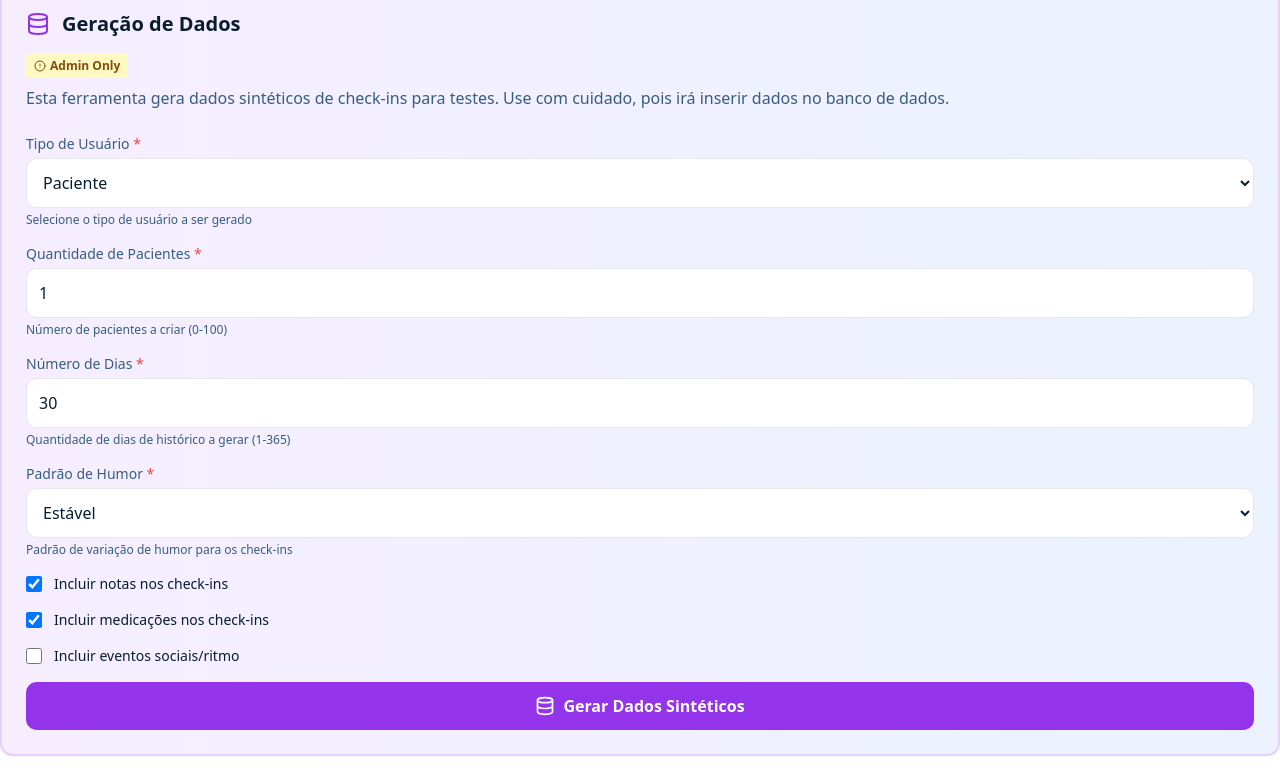
Test: DataGenerator › should handle non-JSON response error gracefully
Expected: the dropdown labelled "Tipo de Usuário *" is shown, top-left (26, 158), bottom-right (1254, 208)
Click the button "Gerar Dados Sintéticos" at x=640, y=706, box top-left (26, 682), bottom-right (1254, 730)
(page scrolled)
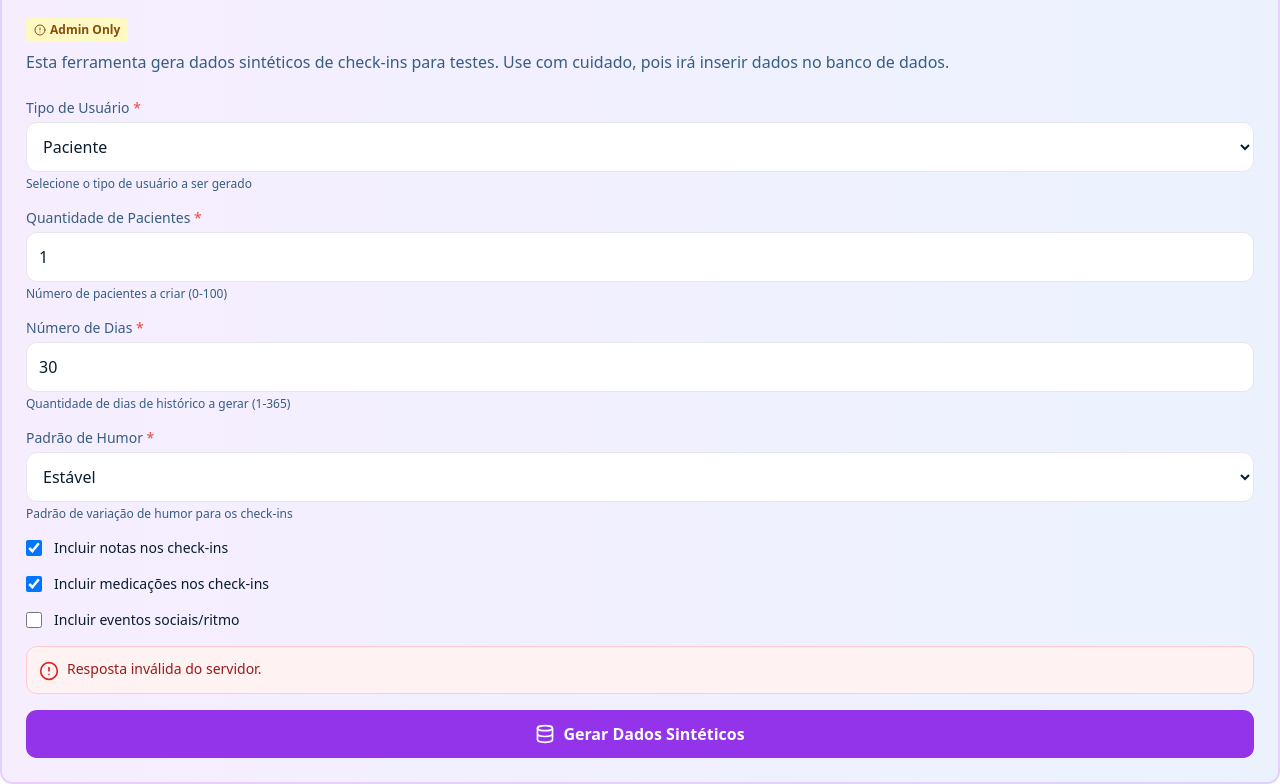
Expected: the button "Gerar Dados Sintéticos" is enabled, top-left (26, 710), bottom-right (1254, 758)
Expected: the text "Resposta inválida do servidor." is shown, top-left (67, 659), bottom-right (261, 679)
